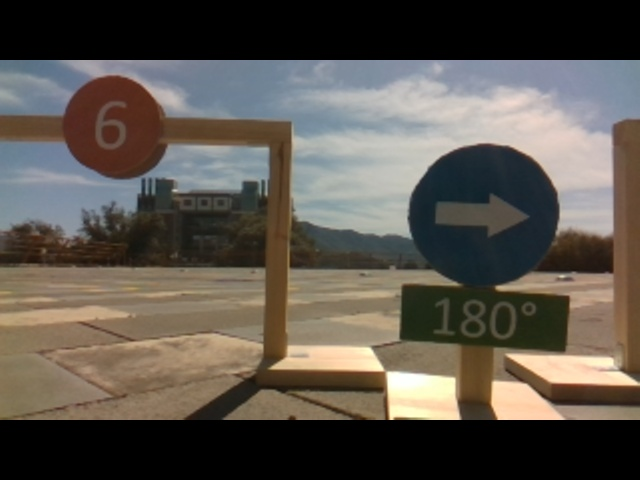180_degree: (400, 286, 572, 351)
arrow_right: (407, 136, 562, 288)
checkpoint_foot: (502, 343, 640, 410), (257, 333, 388, 386)
checkpoint_side: (605, 113, 637, 370), (262, 113, 294, 361)
checkpoint_signal: (1, 110, 304, 151)
six: (63, 75, 171, 180)
